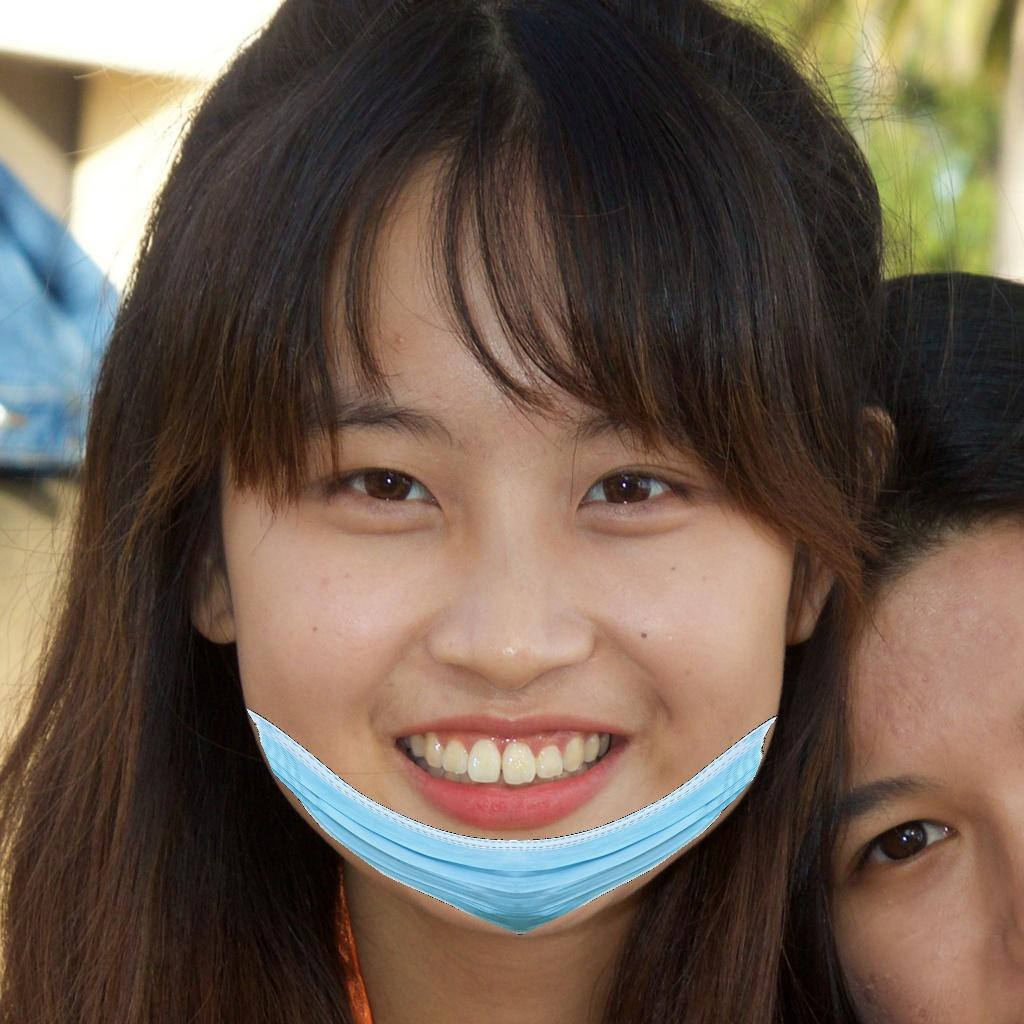Máscara Incorreta: (148, 258, 814, 934)
